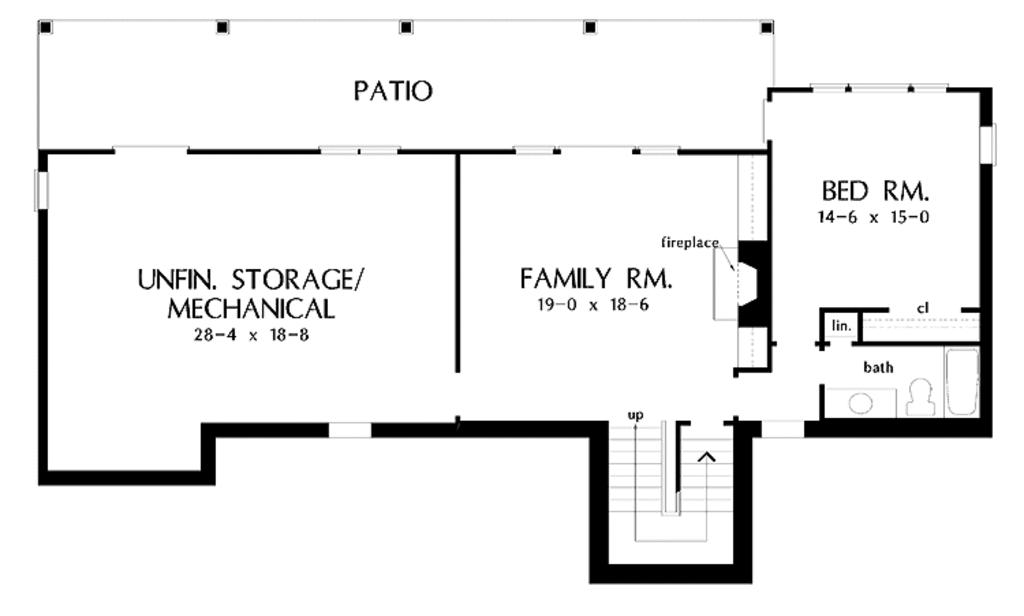large_sink: (905, 374, 935, 416)
small_sink: (823, 386, 898, 419)
stairs: (596, 411, 753, 569)
tub: (941, 341, 979, 418)
window: (319, 411, 397, 452), (814, 76, 952, 97), (111, 137, 192, 163), (311, 139, 405, 161), (977, 121, 1001, 174), (30, 167, 54, 212), (640, 138, 684, 160), (510, 143, 561, 158)
